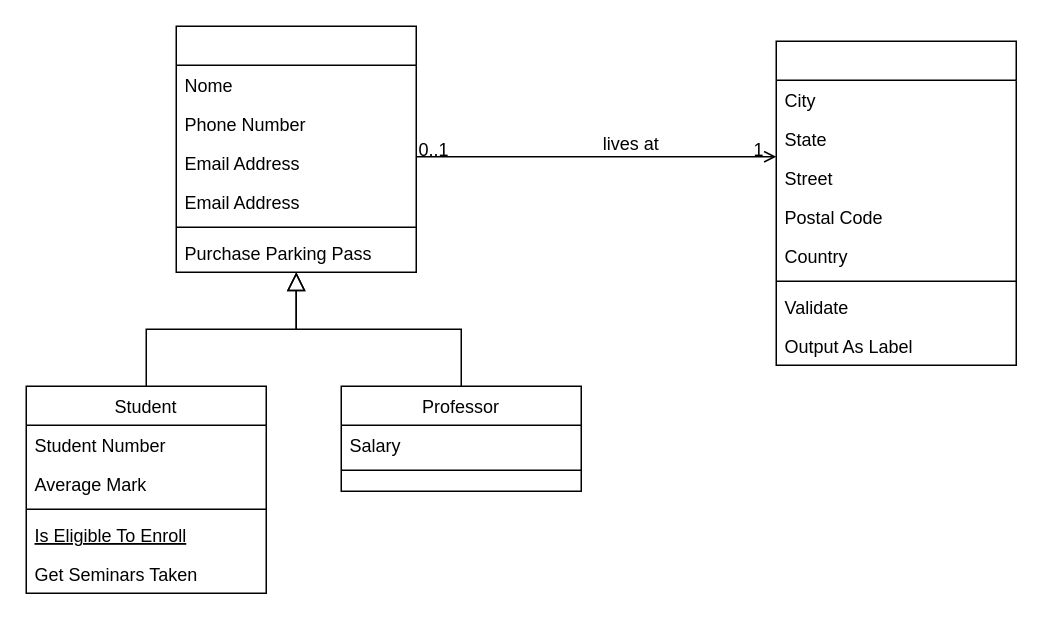
Some shapes in this 1043 by 624 pixel diagram are drawn without their labels. Here are the shapes that lost their labels. From the top down, the box of each, then its label:
(175, 25, 416, 272): Cliente
(775, 40, 1016, 365): Address
